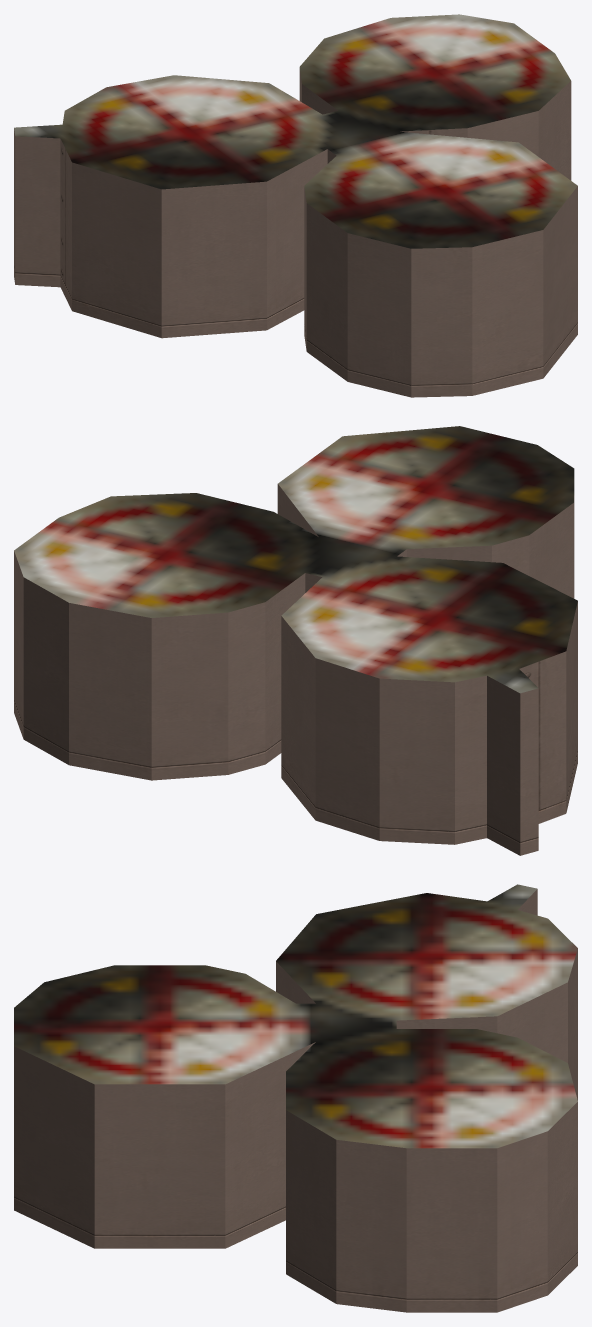
File: fuel_tank_medium_32.glb
3 renders of one model, top to bottom at view 1: azimuth 30°, elevation 25°; view 2: azimuth 150°, elevation 25°; view 3: azimuth 270°, elevation 25°, orthographic. The views are drawn at different scales.
Parts seen in each view (by area): view 1: buildings/saxarba/fuel_tanks/fuel_tank_medium_32; view 2: buildings/saxarba/fuel_tanks/fuel_tank_medium_32; view 3: buildings/saxarba/fuel_tanks/fuel_tank_medium_32.
Boxes of the visible parts, <box> form: buildings/saxarba/fuel_tanks/fuel_tank_medium_32: <box>14,14,577,397</box>; buildings/saxarba/fuel_tanks/fuel_tank_medium_32: <box>14,426,577,855</box>; buildings/saxarba/fuel_tanks/fuel_tank_medium_32: <box>14,884,577,1312</box>.
Size of the model in its own units: 62 by 18 by 56.
